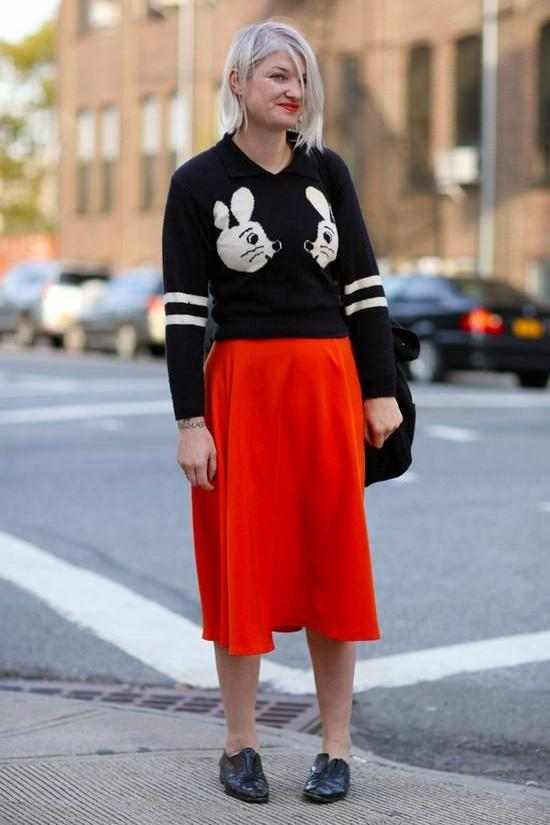skirt: (188, 338, 377, 656)
sweater: (160, 130, 397, 422)
